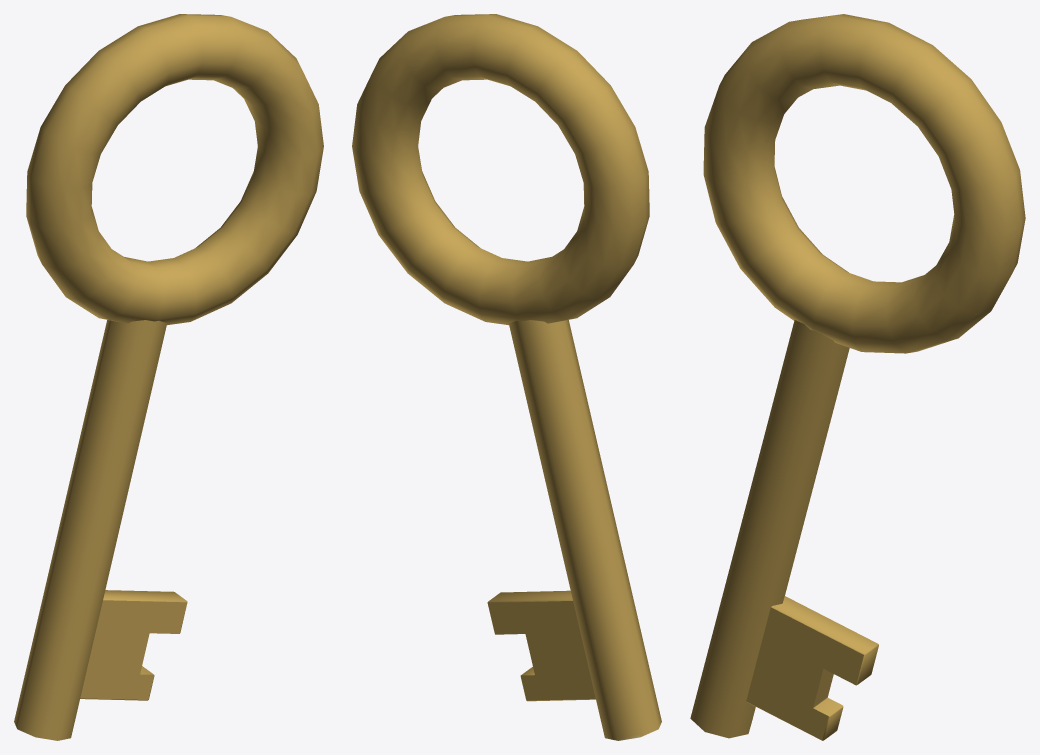
Rendered from Key_18.fbx.
The picture shows the model from 3 angles, left to right: view 1: azimuth 30°, elevation 25°; view 2: azimuth 150°, elevation 25°; view 3: azimuth 330°, elevation 25°; orthographic projection. The views are drawn at different scales.
Visible parts, largest first — view 1: Key18.001; view 2: Key18.001; view 3: Key18.001.
Boxes of the visible parts, x1,y1,x2,y2 form: Key18.001: (14, 14, 323, 740); Key18.001: (352, 14, 661, 740); Key18.001: (690, 14, 1025, 740).
Bounding box in the file's own units: 0.2048 × 0.4436 × 0.0389.
